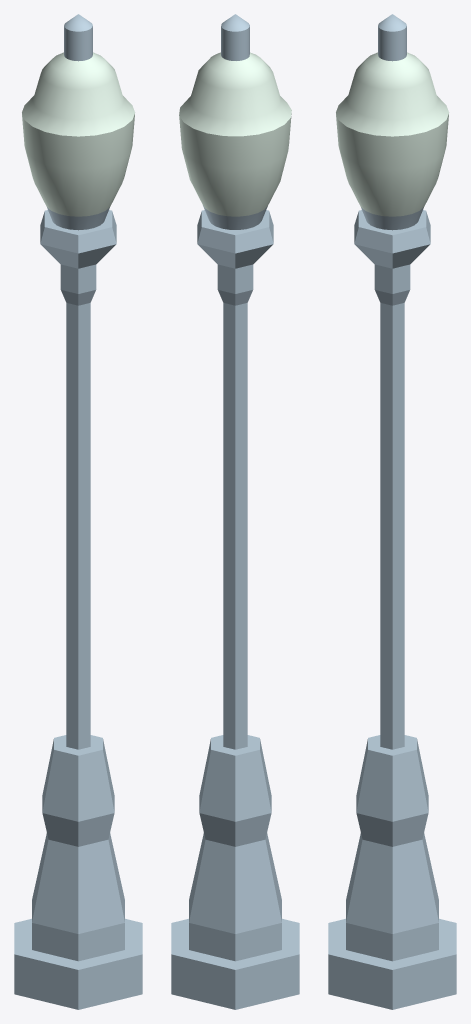
The model's file is streetlight_16.fbx.
3 views of the same model, side by side, from view 1: azimuth 90°, elevation 25°; view 2: azimuth 150°, elevation 25°; view 3: azimuth 270°, elevation 25° (orthographic).
Parts seen in each view (by area): view 1: streetlight_16, pSphere24; view 2: streetlight_16, pSphere24; view 3: streetlight_16, pSphere24.
Part boxes in pixels (left/top/right/bottom): streetlight_16: left=14, top=210, right=142, bottom=1009; pSphere24: left=22, top=14, right=134, bottom=230; streetlight_16: left=171, top=210, right=299, bottom=1009; pSphere24: left=179, top=14, right=291, bottom=229; streetlight_16: left=328, top=210, right=456, bottom=1009; pSphere24: left=336, top=14, right=448, bottom=230.
Bounding box in the file's own units: 1.16 × 8.33 × 1.
